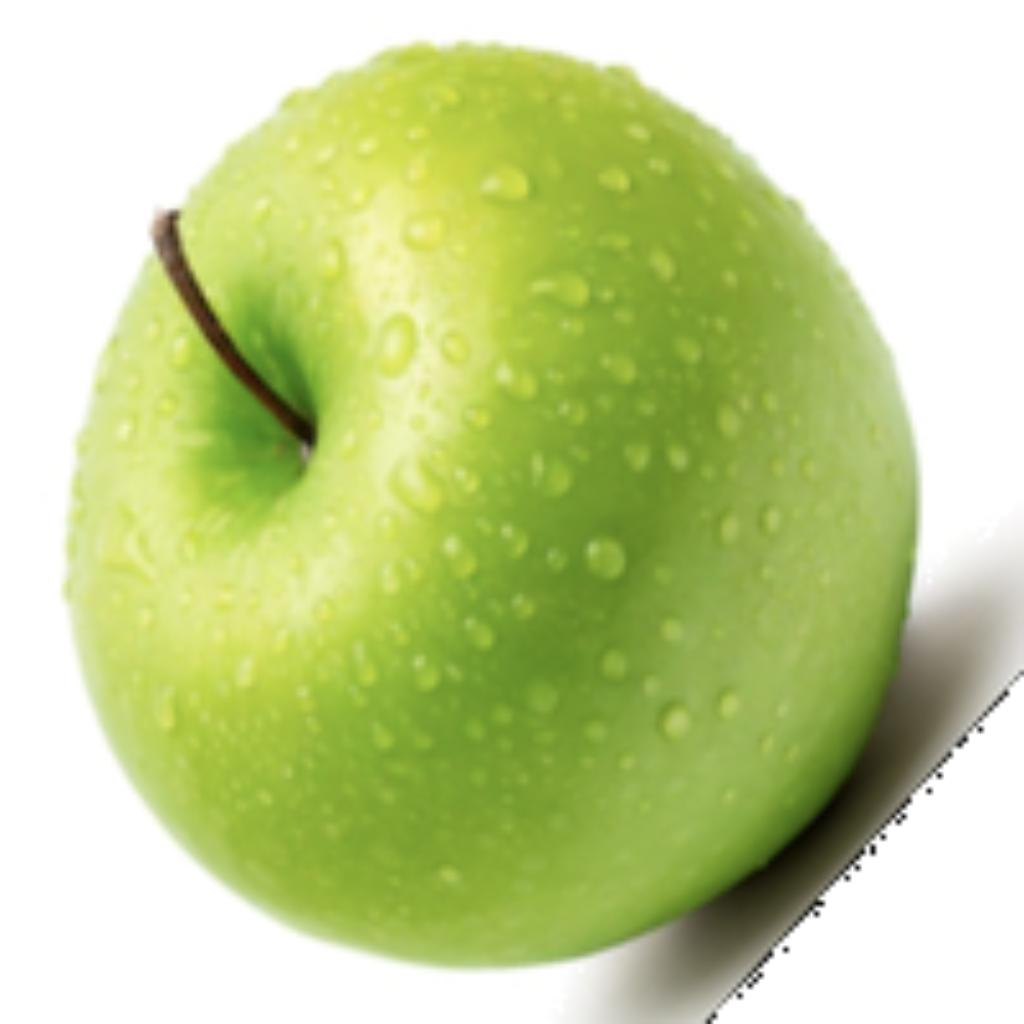apple: (56, 31, 1019, 1019)
